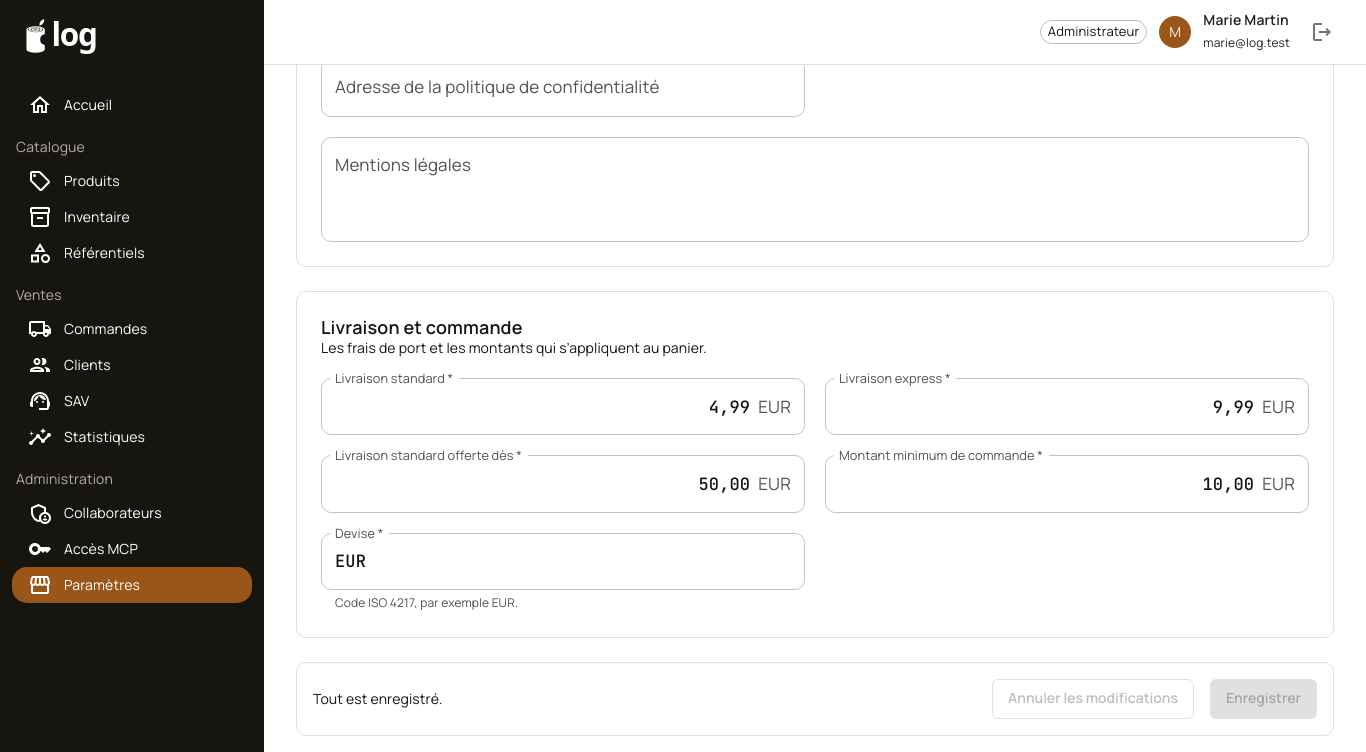
the shop settings (U08) › refuses what the API would refuse, and puts the cursor on it
(page scrolled)
Step 1. Replace the text in the field labelled "Livraison express" with "9,999" → [1040, 406], box [825,378,1254,435]
(page scrolled)
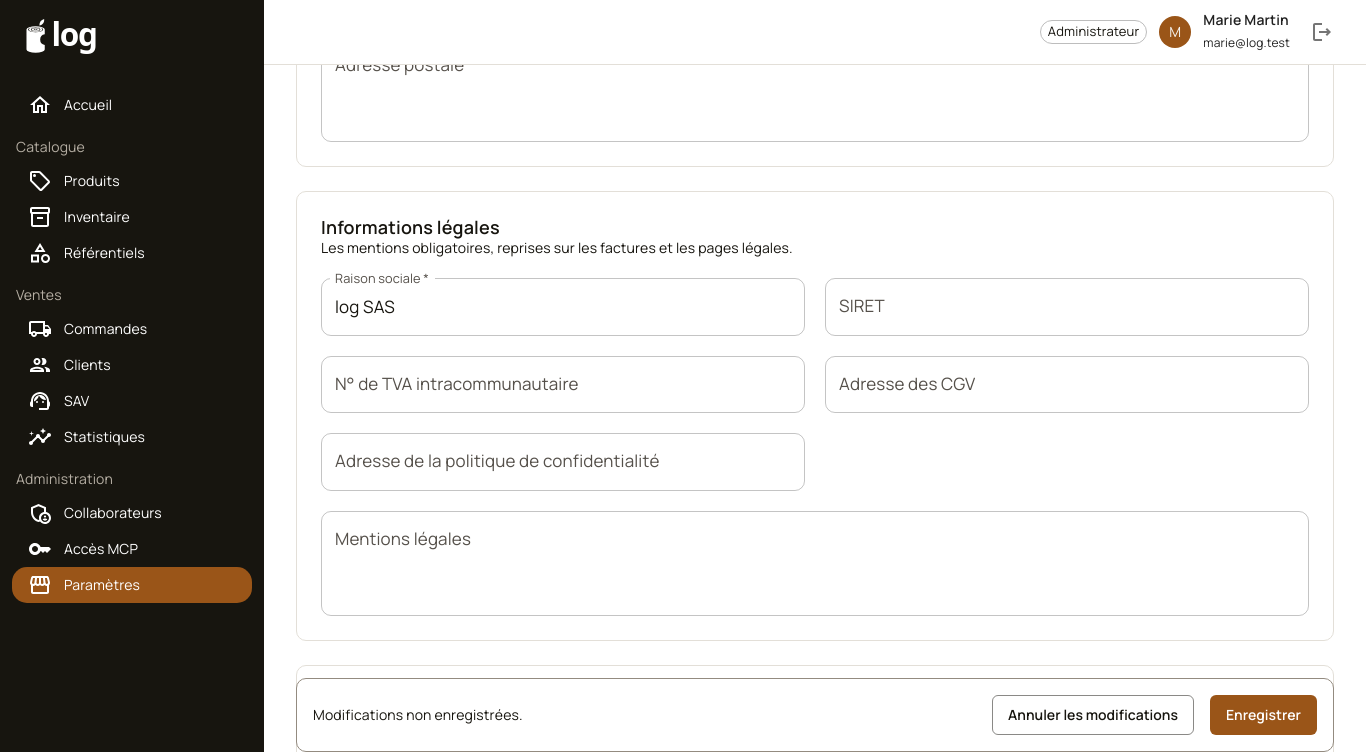
Step 2. Type "cgv.html" into the field labelled "Adresse des CGV" → [1067, 384], box [825,356,1309,413]
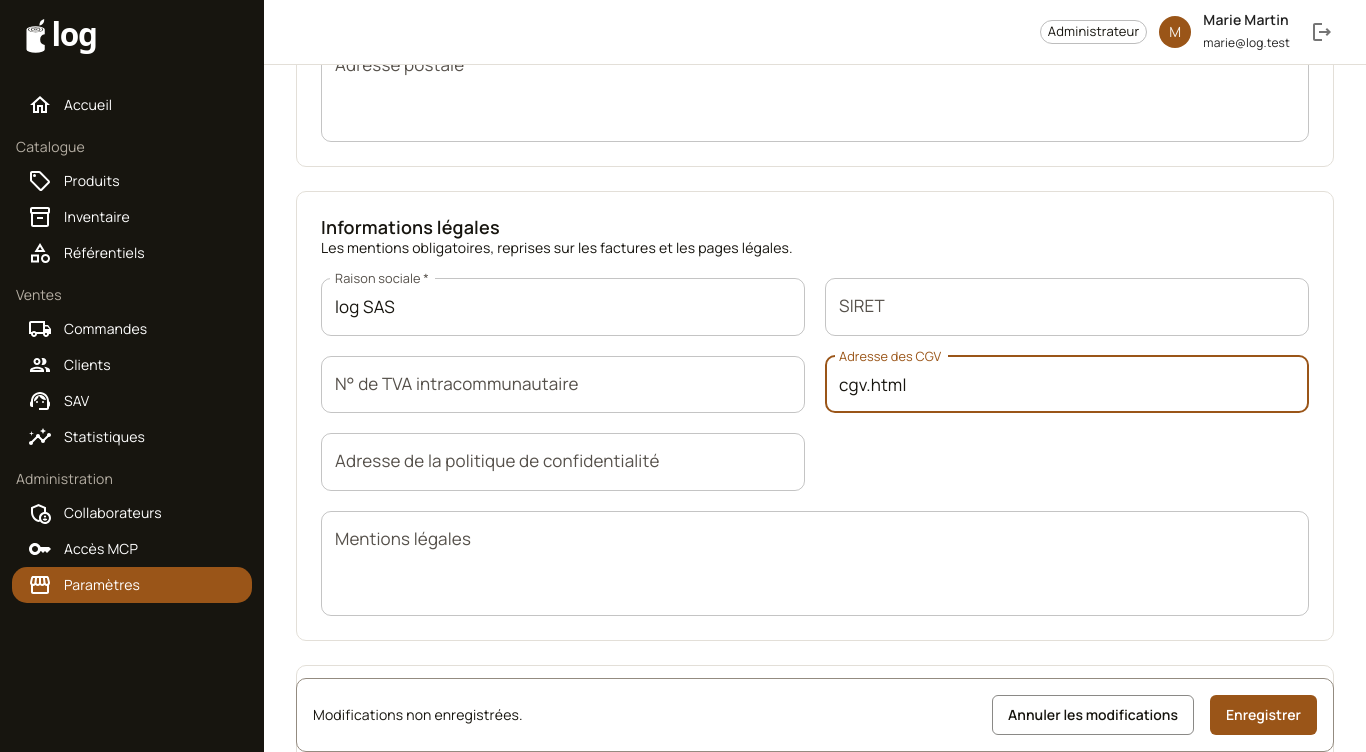
Step 3. Click the button "Enregistrer" → [1264, 715], box [1210,695,1317,735]
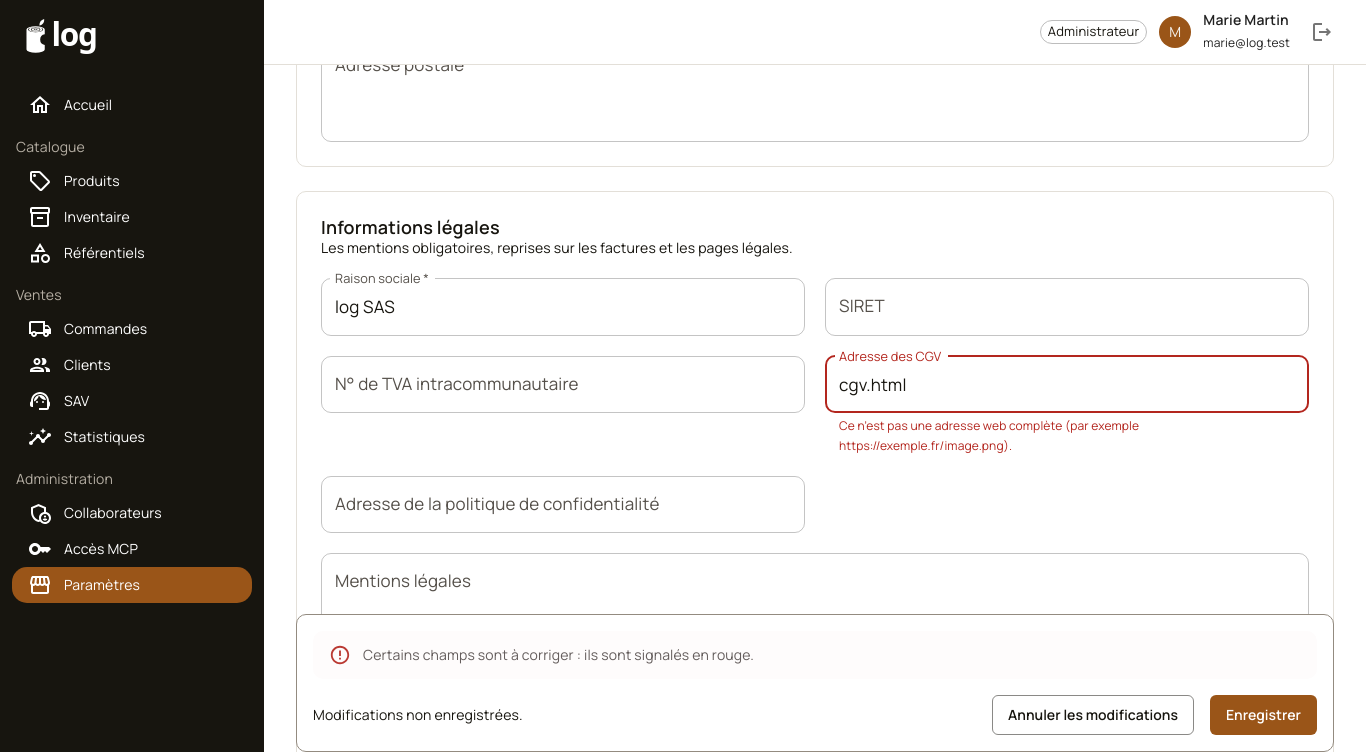
Expected: the text "pas une adresse web complète" is shown, [839,417,1139,454]
